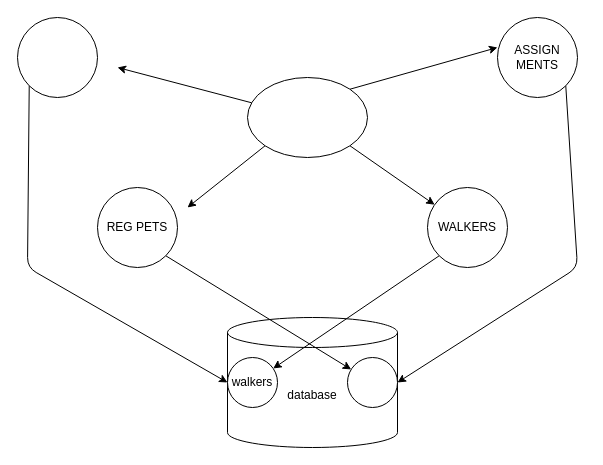
Image size: 603x465. Some labels were removed from this diagram. Here are the shapes that lost their labels. From the top down, the centre of each, then its label:
At (x=57, y=57): "CITY LIST".
At (x=307, y=117): "MAIN".
At (x=372, y=382): "pets".
